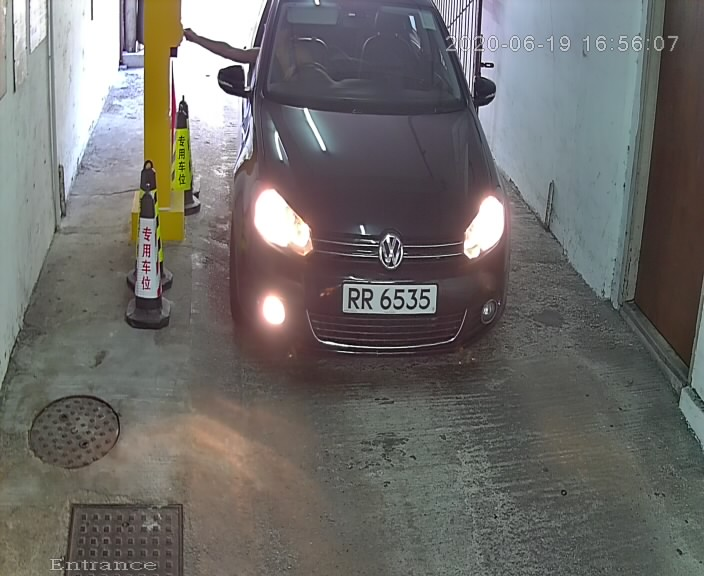taxi_mark: (223, 2, 518, 358)
